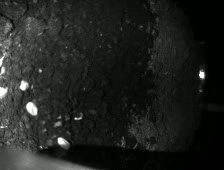corn: (55, 133, 73, 152), (23, 100, 41, 118), (17, 78, 31, 92), (72, 108, 84, 121)
